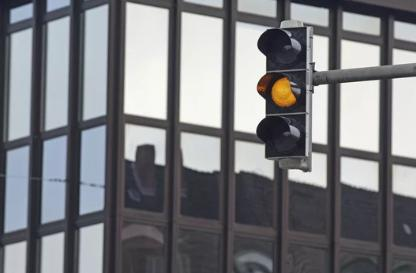yellow_light: (256, 27, 312, 168)
